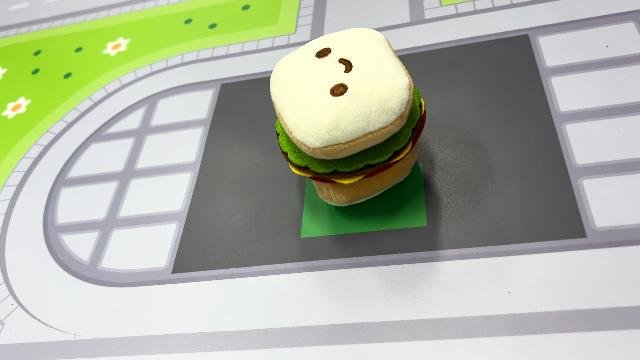sandwich: (267, 26, 429, 208)
